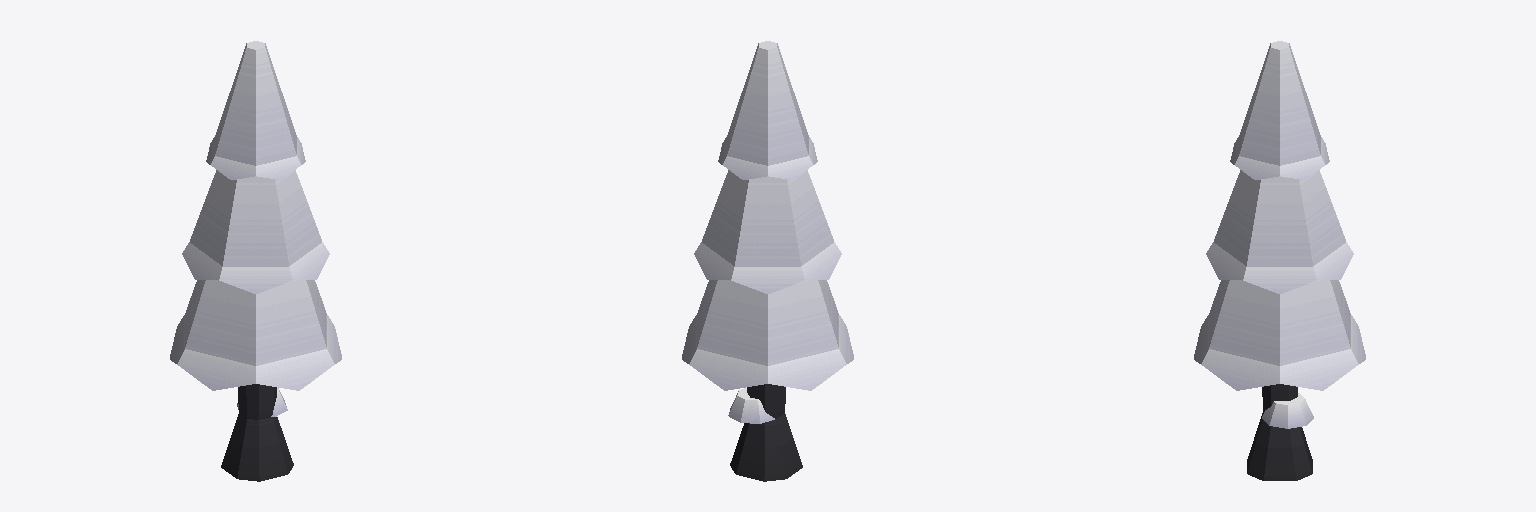
3 views of the same model, side by side, from view 1: azimuth 30°, elevation 25°; view 2: azimuth 150°, elevation 25°; view 3: azimuth 270°, elevation 25° (orthographic).
Visible parts, largest first — view 1: tree.011; view 2: tree.011; view 3: tree.011.
Boxes of the visible parts, box(x1,y1,x2,y2) form: tree.011: box(170, 41, 341, 481); tree.011: box(682, 41, 853, 481); tree.011: box(1194, 41, 1365, 480).
Size of the model in its own units: 1.36 by 3.47 by 1.3.
1 materials, 1 textured.